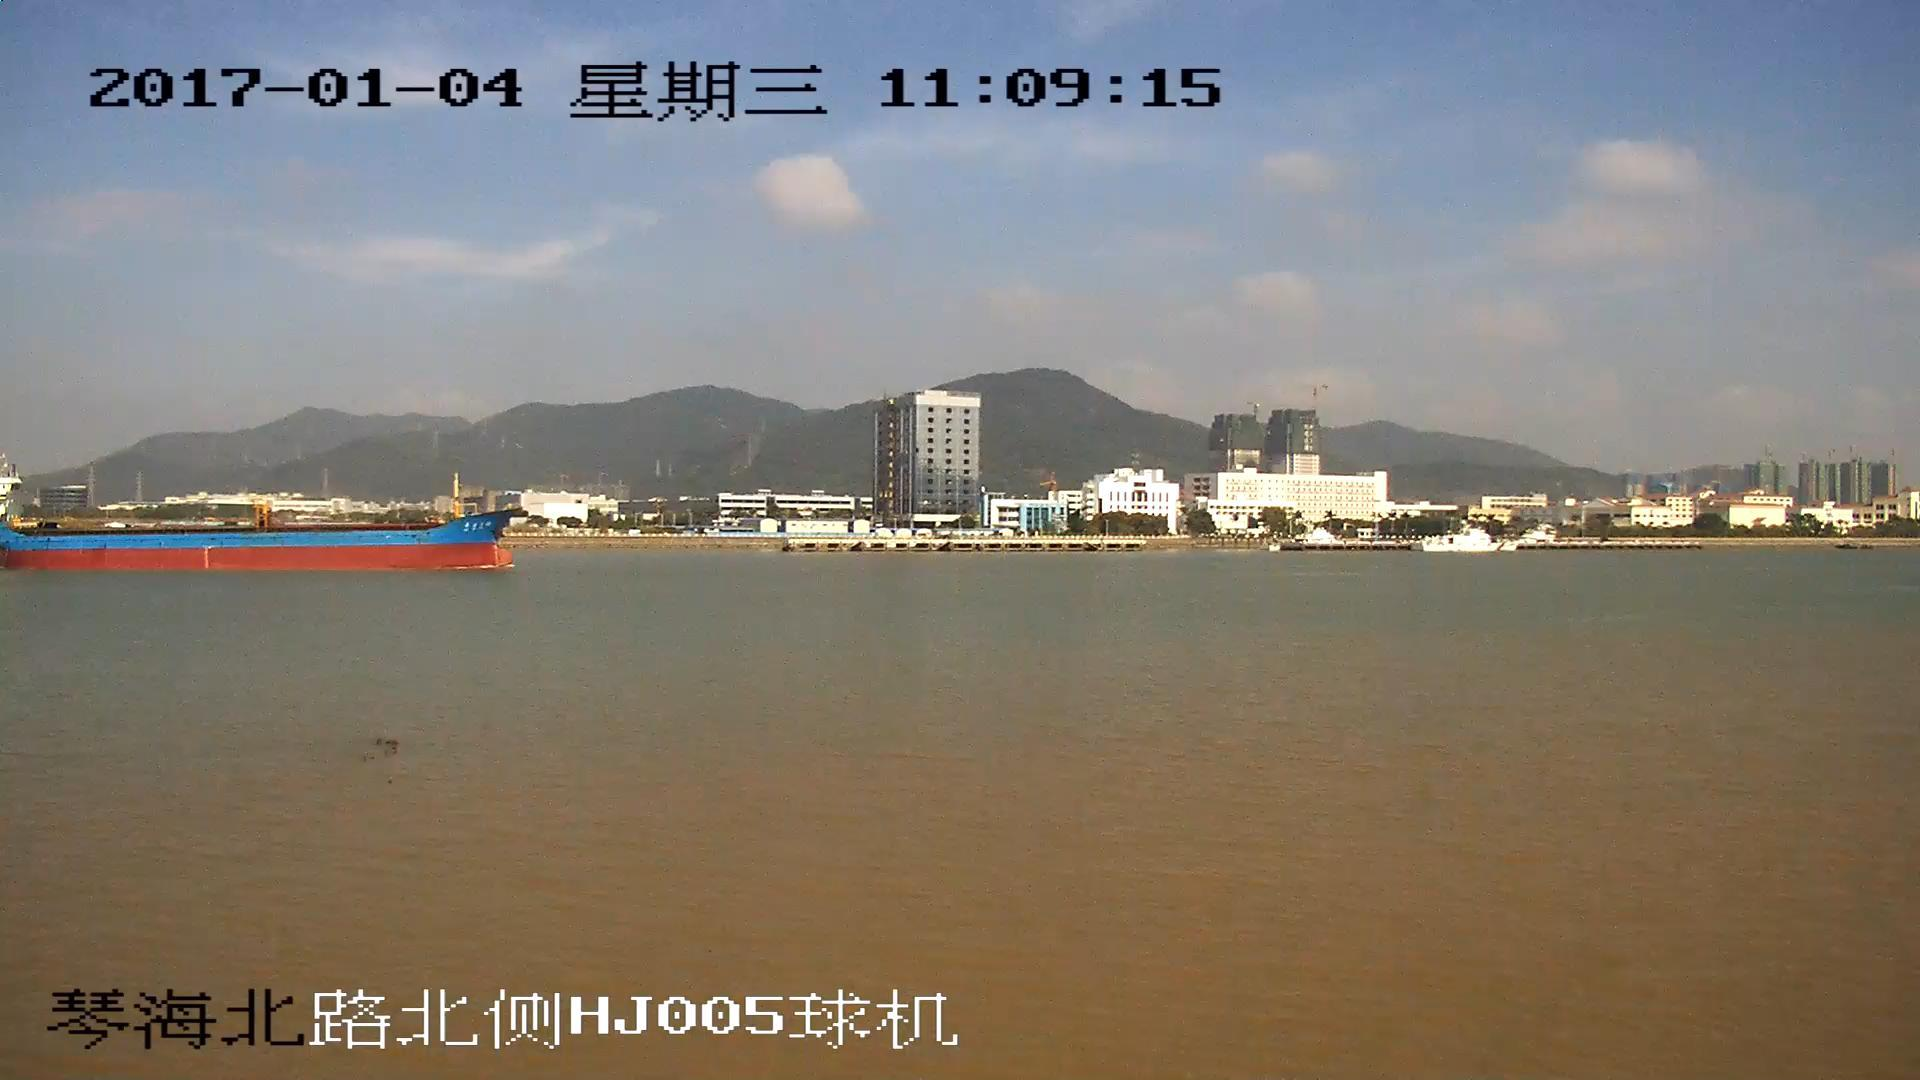Ship: (3, 468, 521, 578)
